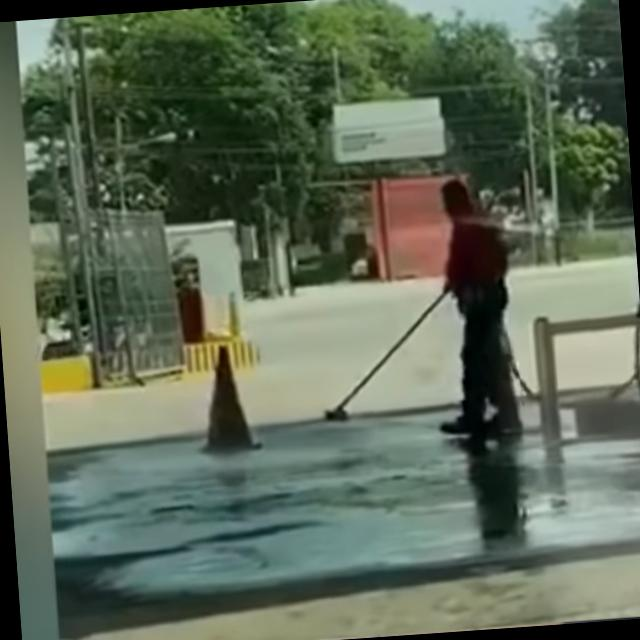person: (422, 173, 524, 438)
